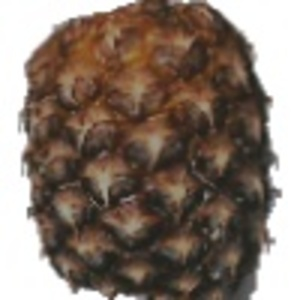abacaxi: (8, 3, 286, 297)
